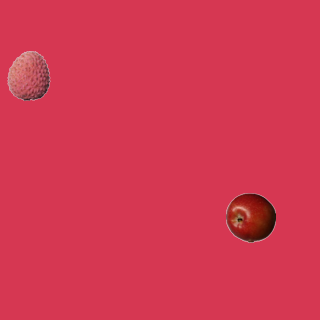Apple Braeburn: (225, 192, 275, 242)
Lychee: (3, 50, 53, 100)
